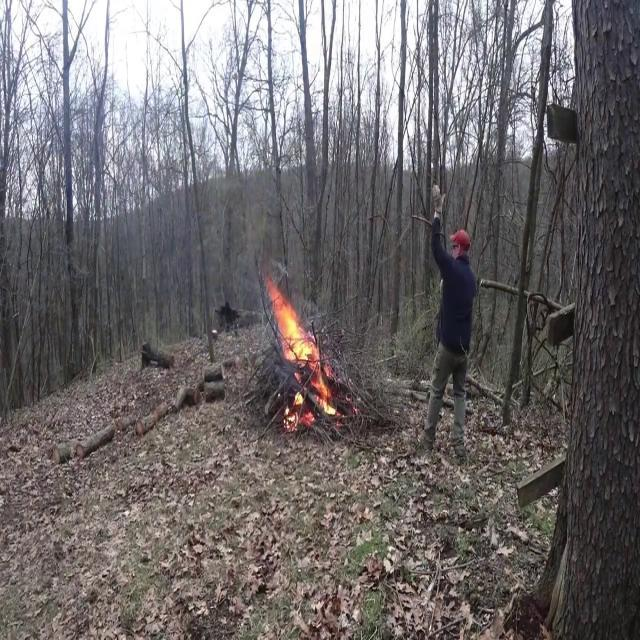Fire: (263, 274, 337, 426)
